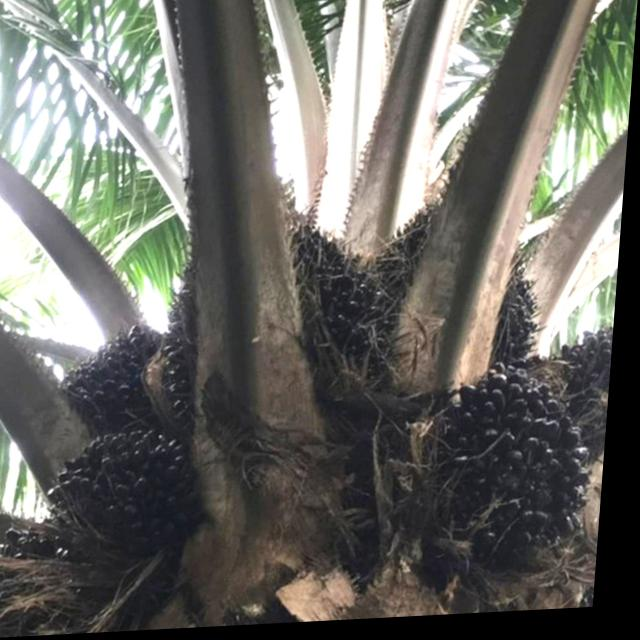almost: (155, 183, 402, 444)
